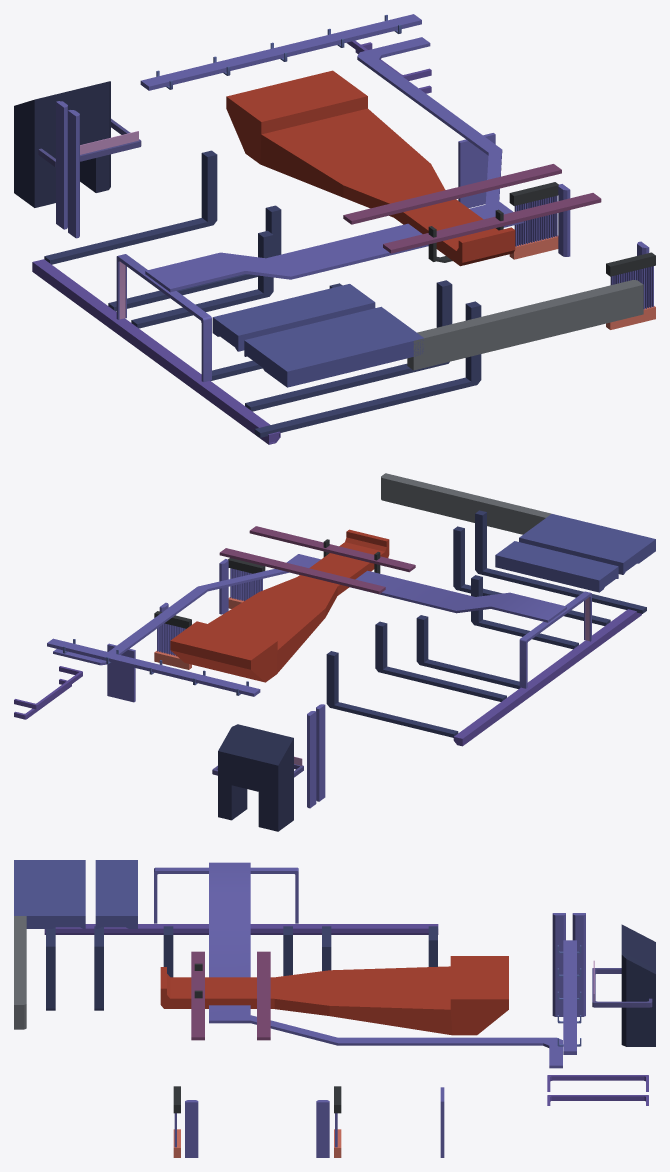
The model's file is SM_GameArea_Wall_04.fbx.
3 renders of one model, top to bottom at view 1: azimuth 30°, elevation 25°; view 2: azimuth 150°, elevation 25°; view 3: azimuth 270°, elevation 25°, orthographic. The views are drawn at different scales.
Parts seen in each view (by area): view 1: SM_GameArea_Wall_04; view 2: SM_GameArea_Wall_04; view 3: SM_GameArea_Wall_04.
Boxes of the visible parts, x1,y1,x2,y2 form: SM_GameArea_Wall_04: (14, 14, 655, 444); SM_GameArea_Wall_04: (14, 473, 655, 831); SM_GameArea_Wall_04: (14, 860, 655, 1157).
Size of what is drawn, in the model's own units: 126 by 33.47 by 178.
